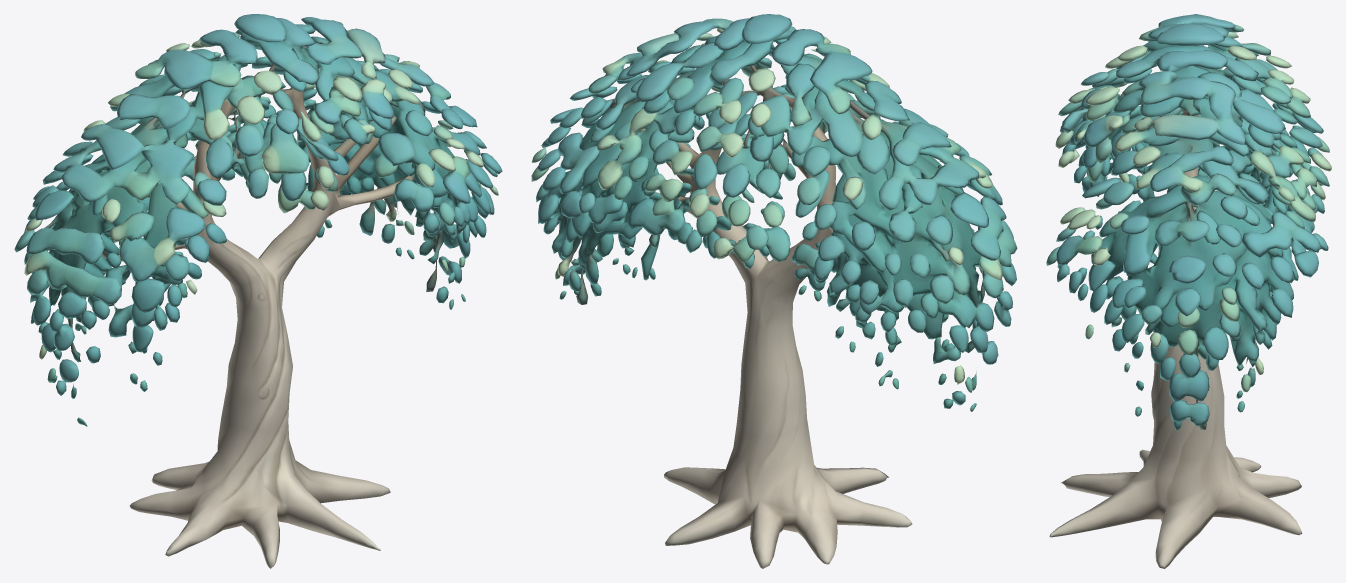
File: willow.glb
3 renders of one model, left to right at view 1: azimuth 30°, elevation 25°; view 2: azimuth 150°, elevation 25°; view 3: azimuth 270°, elevation 25°, orthographic. The views are drawn at different scales.
Parts seen in each view (by area): view 1: model; view 2: model; view 3: model.
Boxes of the visible parts, x1,y1,x2,y2 form: model: [14, 14, 502, 568]; model: [531, 14, 1017, 568]; model: [1046, 14, 1331, 568].
Size of the model in its own units: 1.85 by 1.9 by 1.01.
1 material, 1 textured.
